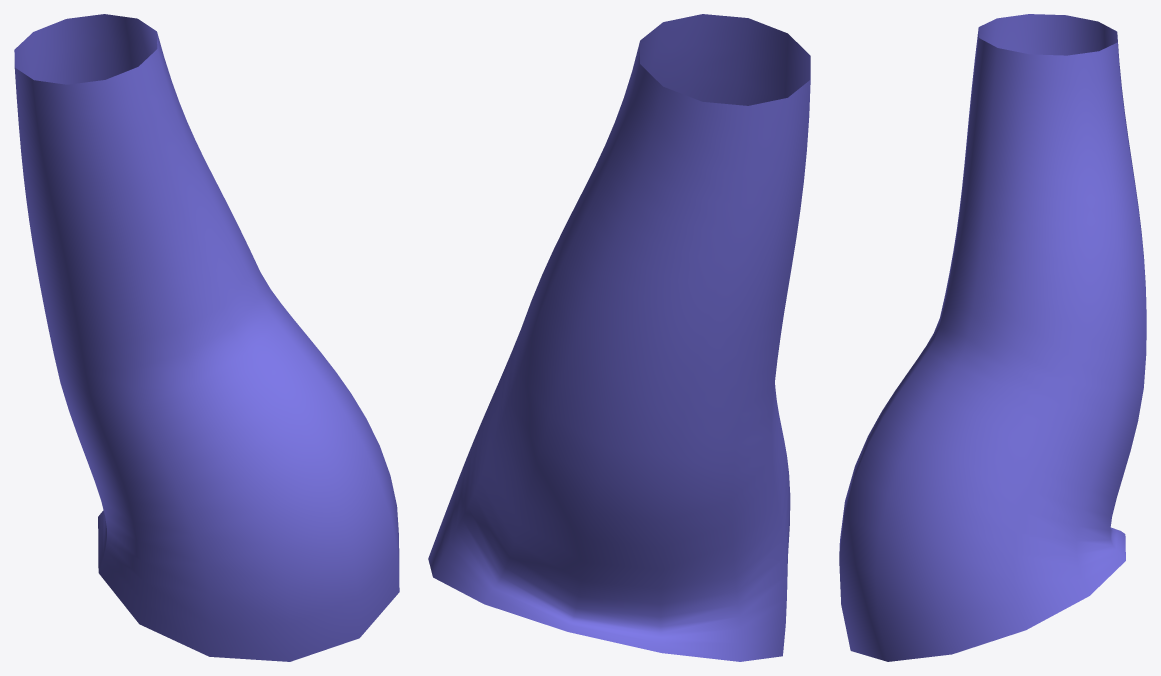
The model's file is Right_brachiocephalic_vein.glb.
3 views of the same model, side by side, from view 1: azimuth 30°, elevation 25°; view 2: azimuth 150°, elevation 25°; view 3: azimuth 270°, elevation 25° (orthographic). The views are drawn at different scales.
Visible parts, largest first — view 1: Right_brachiocephalic_vein_BezierCurve.274; view 2: Right_brachiocephalic_vein_BezierCurve.274; view 3: Right_brachiocephalic_vein_BezierCurve.274.
Part boxes in pixels (x1,y1,x2,y2): Right_brachiocephalic_vein_BezierCurve.274: (14,14,399,661); Right_brachiocephalic_vein_BezierCurve.274: (428,14,810,661); Right_brachiocephalic_vein_BezierCurve.274: (839,14,1146,661).
Size of the model in its own units: 0.0252 by 0.0423 by 0.0214.
